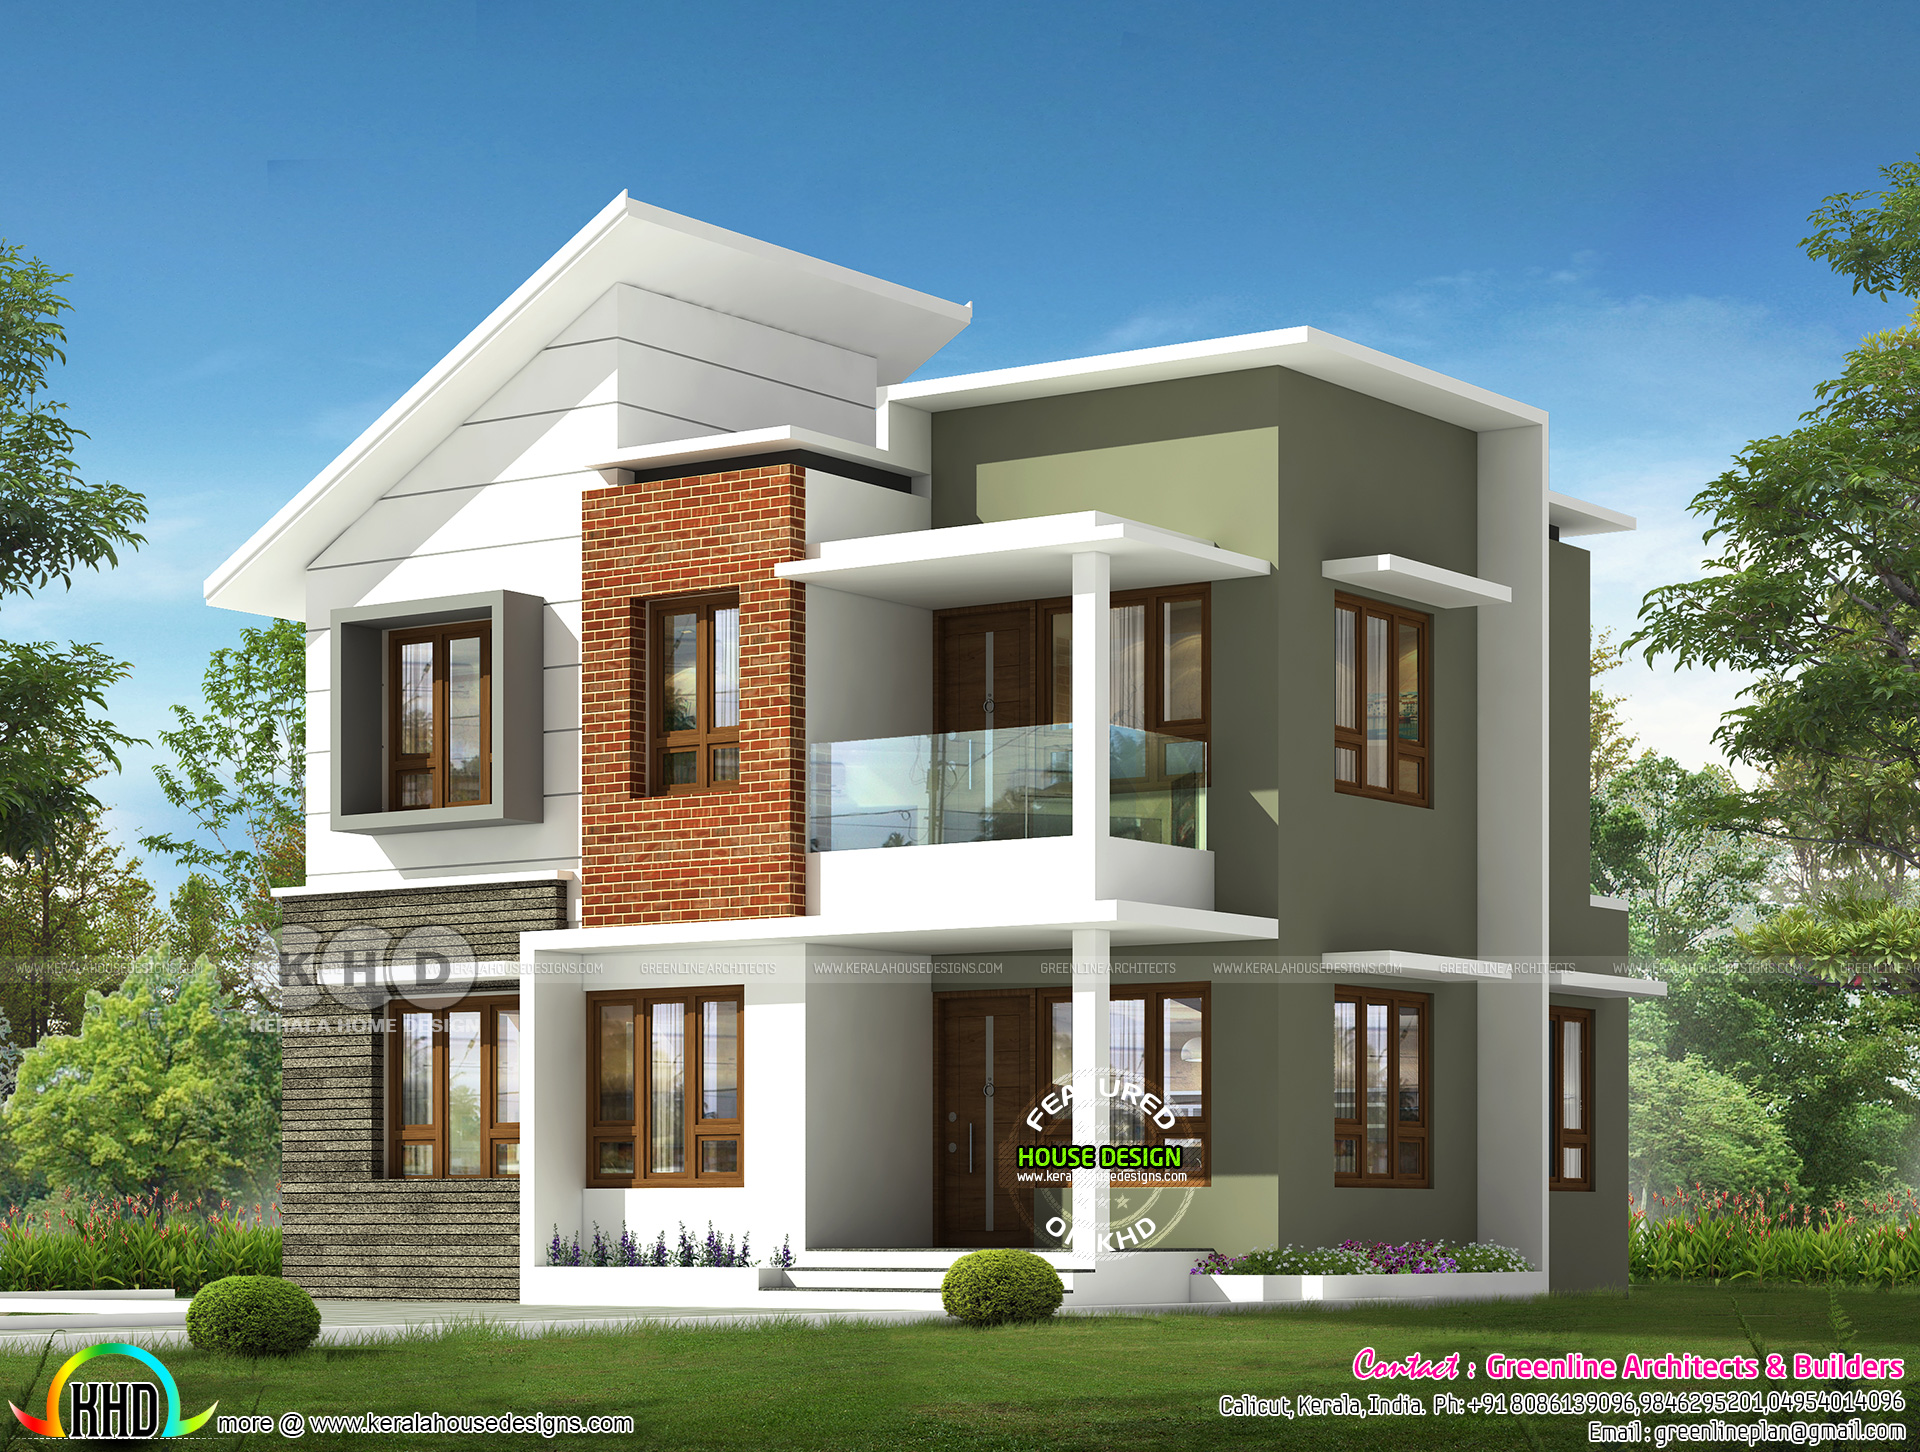Building House: (148, 178, 1664, 1312)
